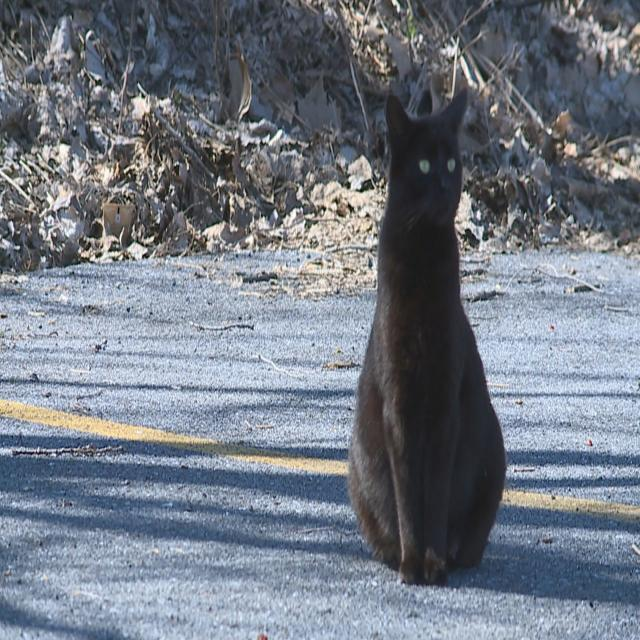cat: (349, 89, 506, 584)
